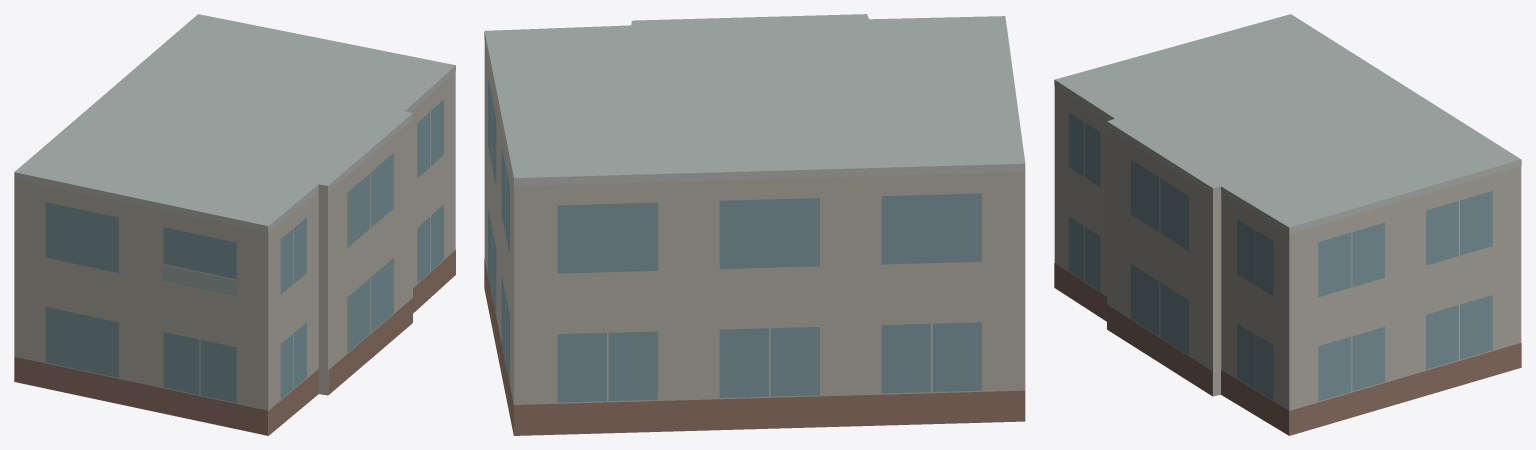
Rendered from survey-upis-32937111.glb.
3 views of the same model, side by side, from view 1: azimuth 30°, elevation 25°; view 2: azimuth 150°, elevation 25°; view 3: azimuth 270°, elevation 25° (orthographic). The views are drawn at different scales.
Parts seen in each view (by area): view 1: survey-upis-32937111.tmp; view 2: survey-upis-32937111.tmp; view 3: survey-upis-32937111.tmp.
Part boxes in pixels (x1,y1,x2,y2): survey-upis-32937111.tmp: (14,14,455,435); survey-upis-32937111.tmp: (484,14,1025,435); survey-upis-32937111.tmp: (1054,14,1521,435).
Bounding box in the file's own units: 17.17 × 7.8 × 15.86.
